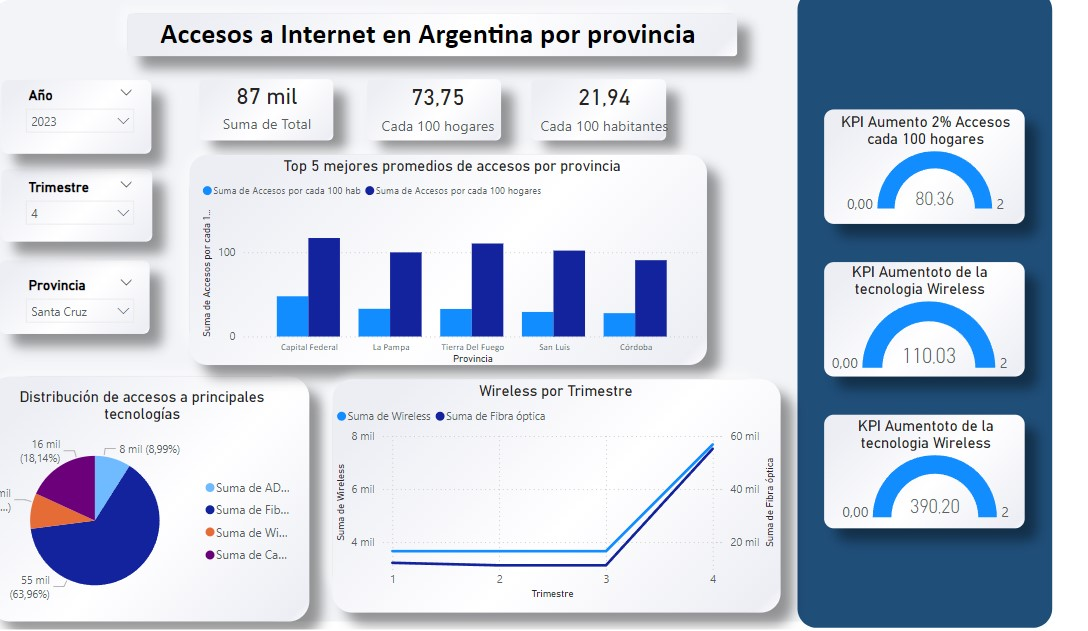

The dashboard page shown, as its layout file describes it:
{"tool":"powerbi","page":{"name":"PROVINCIAS","canvas":[1280,720],"ordinal":2},"visuals":[{"type":"slicer","fields":{"Values":["provincia_acc.Año"]},"box":[40.4,101.9,142.2,67.6],"z":0},{"type":"slicer","fields":{"Values":["provincia_acc.Provincia"]},"box":[40.4,315.2,142.2,68.5],"z":1000},{"type":"slicer","fields":{"Values":["provincia_acc.Trimestre"]},"box":[40.4,204.6,142.2,67.6],"z":2000},{"type":"clusteredColumnChart","title":"Top 5 mejores promedios de accesos por provincia","fields":{"Y":["Sum(Sheet1 (4).Accesos por cada 100 hab)","Sum(Sheet1 (4).Accesos por cada 100 hogares)"],"Category":["Sheet1 (4).Provincia"]},"box":[244.1,186.1,572.5,238],"z":3000},{"type":"lineChart","title":"Wireless por Trimestre","fields":{"Category":["provincia_acc.Trimestre"],"Y":["Sum(provincia_acc.Wireless)"]},"box":[396,439,504,249.4],"z":4000},{"type":"pieChart","title":"Distribución de accesos a principales tecnologías","fields":{"Y":["Sum(provincia_acc.ADSL)","Sum(provincia_acc.Fibra óptica)","Sum(provincia_acc.Wireless)","Sum(provincia_acc.Cablemodem)"]},"box":[0,446,362.6,260.8],"z":5000},{"type":"card","fields":{"Values":["Sum(Sheet1 (4).Accesos por cada 100 hab)"]},"box":[624.3,85.2,156.3,84.3],"z":6000},{"type":"card","fields":{"Values":["Sum(Sheet1 (4).Accesos por cada 100 hogares)"]},"box":[437.3,85.2,155.4,84.3],"z":7000},{"type":"card","fields":{"Values":["Sum(Sheet1.Total)"]},"box":[244.1,89.6,155.4,74.6],"z":8000},{"type":"gauge","title":"KPI Aumentoto de la tecnologia Wireless","fields":{"Y":["Sum(Sheet1 (5).KPI wireless)"],"MaxValue":["Medidas.valor_max"]},"box":[949.2,305.6,217.8,128.2],"z":9000},{"type":"gauge","title":"KPI Aumento  2% Accesos cada 100 hogares","fields":{"Y":["Sum(Sheet1 (4).KPI)"],"MaxValue":["Medidas.valor_max"]},"box":[960.6,136.1,206.3,117.7],"z":10000},{"type":"gauge","title":"KPI Aumentoto de la tecnologia Wireless","fields":{"MaxValue":["Medidas.valor_max"],"Y":["Sum(Sheet1 (5).KPI F0)"]},"box":[955.3,479.4,217.8,122.9],"z":11000}]}

Visuals, with their boxes on the page's 1280x720 design canvas (x1, y1, x2, y2). These are canvas units, not pixel positions in the 1088x631 screenshot, which may show the page scaled, cropped or inside an application window:
slicer - provincia_acc.Año: Rect(40, 102, 183, 170)
slicer - provincia_acc.Provincia: Rect(40, 315, 183, 384)
slicer - provincia_acc.Trimestre: Rect(40, 205, 183, 272)
"Top 5 mejores promedios de accesos por provincia" clusteredColumnChart: Rect(244, 186, 817, 424)
"Wireless por Trimestre" lineChart: Rect(396, 439, 900, 688)
"Distribución de accesos a principales tecnologías" pieChart: Rect(0, 446, 363, 707)
card - Sum(Sheet1 (4).Accesos por cada 100 hab): Rect(624, 85, 781, 170)
card - Sum(Sheet1 (4).Accesos por cada 100 hogares): Rect(437, 85, 593, 170)
card - Sum(Sheet1.Total): Rect(244, 90, 400, 164)
"KPI Aumentoto de la tecnologia Wireless" gauge: Rect(949, 306, 1167, 434)
"KPI Aumento  2% Accesos cada 100 hogares" gauge: Rect(961, 136, 1167, 254)
"KPI Aumentoto de la tecnologia Wireless" gauge: Rect(955, 479, 1173, 602)
